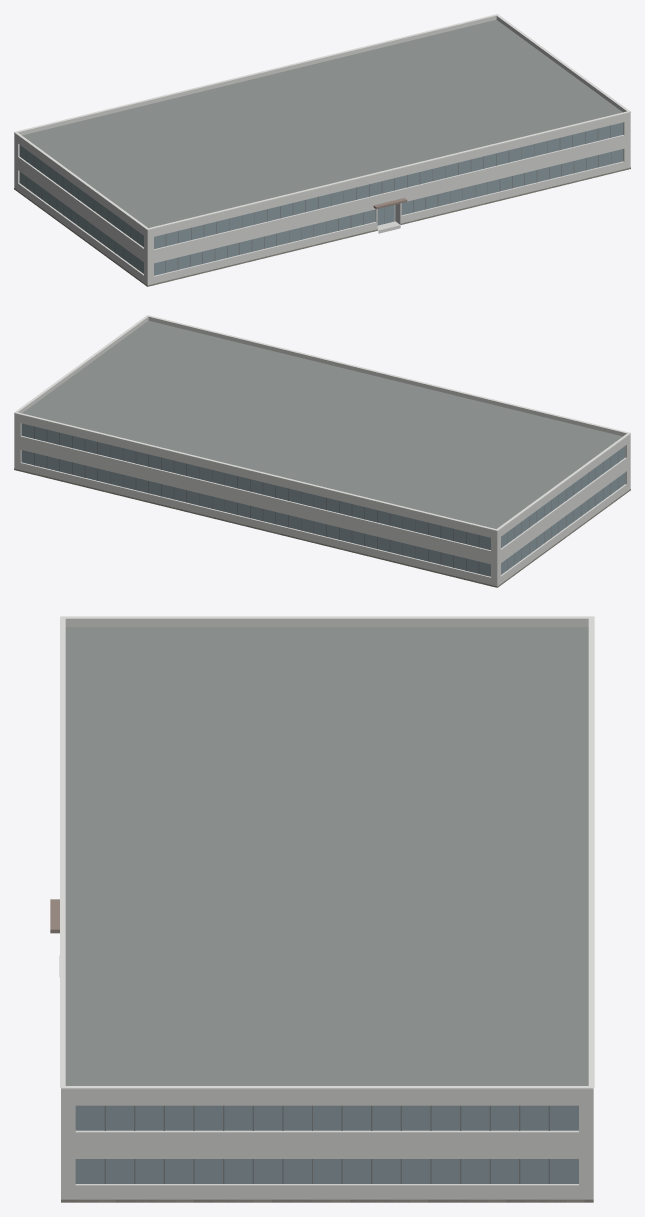
3 renders of one model, top to bottom at view 1: azimuth 30°, elevation 25°; view 2: azimuth 150°, elevation 25°; view 3: azimuth 270°, elevation 25°, orthographic. The views are drawn at different scales.
Parts seen in each view (by area): view 1: osm631011019__roof, osm631011019__wall, osm631011019__glass, osm631011019__parapet, osm631011019__trim, osm631011019__frame, osm631011019__base; view 2: osm631011019__roof, osm631011019__wall, osm631011019__glass, osm631011019__parapet, osm631011019__trim, osm631011019__frame, osm631011019__base; view 3: osm631011019__roof, osm631011019__wall, osm631011019__glass, osm631011019__trim, osm631011019__parapet, osm631011019__base, osm631011019__frame.
Boxes of the visible parts, x1=… form: osm631011019__roof: x1=22, y1=19, x2=622, y2=227; osm631011019__wall: x1=14, y1=116, x2=630, y2=286; osm631011019__glass: x1=19, y1=122, x2=623, y2=275; osm631011019__parapet: x1=14, y1=15, x2=630, y2=233; osm631011019__trim: x1=14, y1=14, x2=630, y2=230; osm631011019__frame: x1=26, y1=125, x2=611, y2=272; osm631011019__base: x1=14, y1=167, x2=630, y2=286; osm631011019__roof: x1=22, y1=320, x2=622, y2=528; osm631011019__wall: x1=14, y1=417, x2=630, y2=587; osm631011019__glass: x1=21, y1=423, x2=625, y2=576; osm631011019__parapet: x1=14, y1=316, x2=630, y2=534; osm631011019__trim: x1=14, y1=315, x2=630, y2=531; osm631011019__frame: x1=34, y1=426, x2=618, y2=573; osm631011019__base: x1=14, y1=468, x2=630, y2=587; osm631011019__roof: x1=65, y1=627, x2=588, y2=1085; osm631011019__wall: x1=61, y1=1096, x2=593, y2=1199; osm631011019__glass: x1=75, y1=1105, x2=578, y2=1183; osm631011019__trim: x1=60, y1=616, x2=594, y2=1089; osm631011019__parapet: x1=61, y1=618, x2=593, y2=1095; osm631011019__base: x1=61, y1=1199, x2=593, y2=1202; osm631011019__frame: x1=104, y1=1105, x2=549, y2=1183.
Size of the model in its own units: 68.6 by 8.15 by 33.42.
10 materials, 1 textured.
